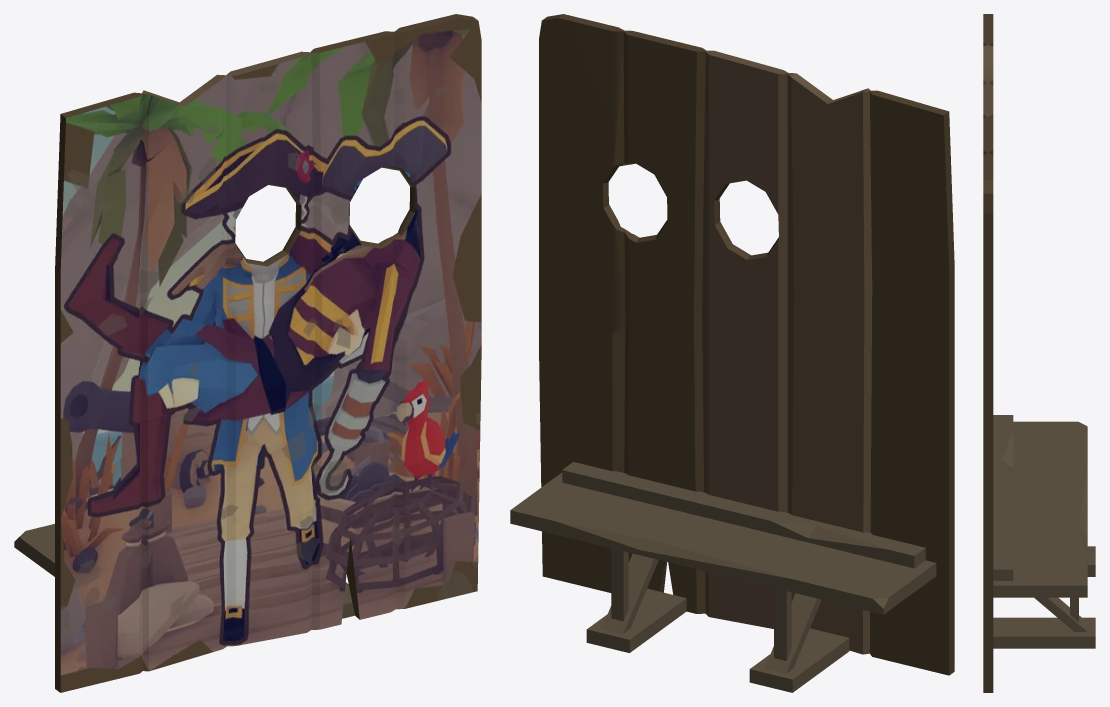
The model's file is SM_Prop_Photo_Stand_02.glb.
3 renders of one model, left to right at view 1: azimuth 30°, elevation 25°; view 2: azimuth 150°, elevation 25°; view 3: azimuth 270°, elevation 25°, orthographic. The views are drawn at different scales.
Visible parts, largest first — view 1: SM_Prop_Photo_Stand_02; view 2: SM_Prop_Photo_Stand_02; view 3: SM_Prop_Photo_Stand_02.
Part boxes in pixels (x1,y1,x2,y2): SM_Prop_Photo_Stand_02: (14, 14, 481, 692); SM_Prop_Photo_Stand_02: (510, 14, 954, 692); SM_Prop_Photo_Stand_02: (983, 14, 1095, 692).
Size of the model in its own units: 157 by 205 by 41.31.
1 material, 1 textured.
